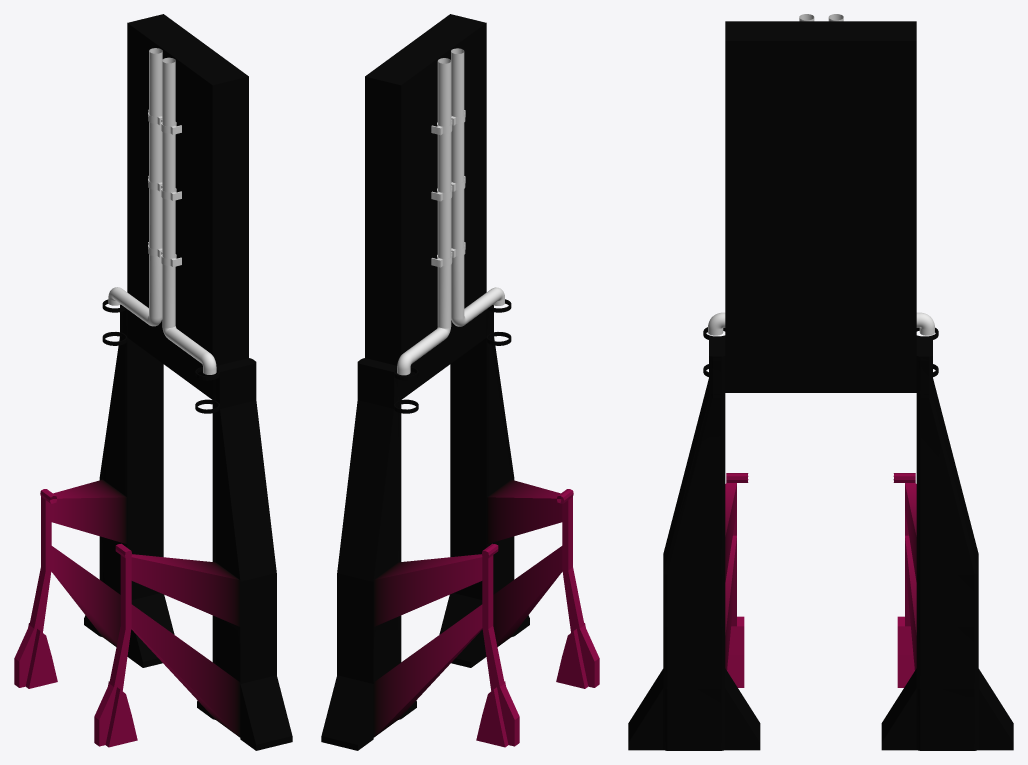
The model's file is GearSupport.fbx.
The picture shows the model from 3 angles, left to right: view 1: azimuth 30°, elevation 25°; view 2: azimuth 150°, elevation 25°; view 3: azimuth 270°, elevation 25°; orthographic projection. The views are drawn at different scales.
Parts seen in each view (by area): view 1: Cube.003, Cylinder; view 2: Cube.003, Cylinder; view 3: Cube.003, Cylinder.
Boxes of the visible parts, x1=… form: Cube.003: x1=14, y1=14, x2=292, y2=750; Cylinder: x1=108, y1=48, x2=216, y2=374; Cube.003: x1=321, y1=14, x2=599, y2=750; Cylinder: x1=397, y1=48, x2=504, y2=375; Cube.003: x1=628, y1=21, x2=1013, y2=750; Cylinder: x1=708, y1=14, x2=934, y2=335.
Size of the model in its own units: 2569 by 10301 by 5074.
